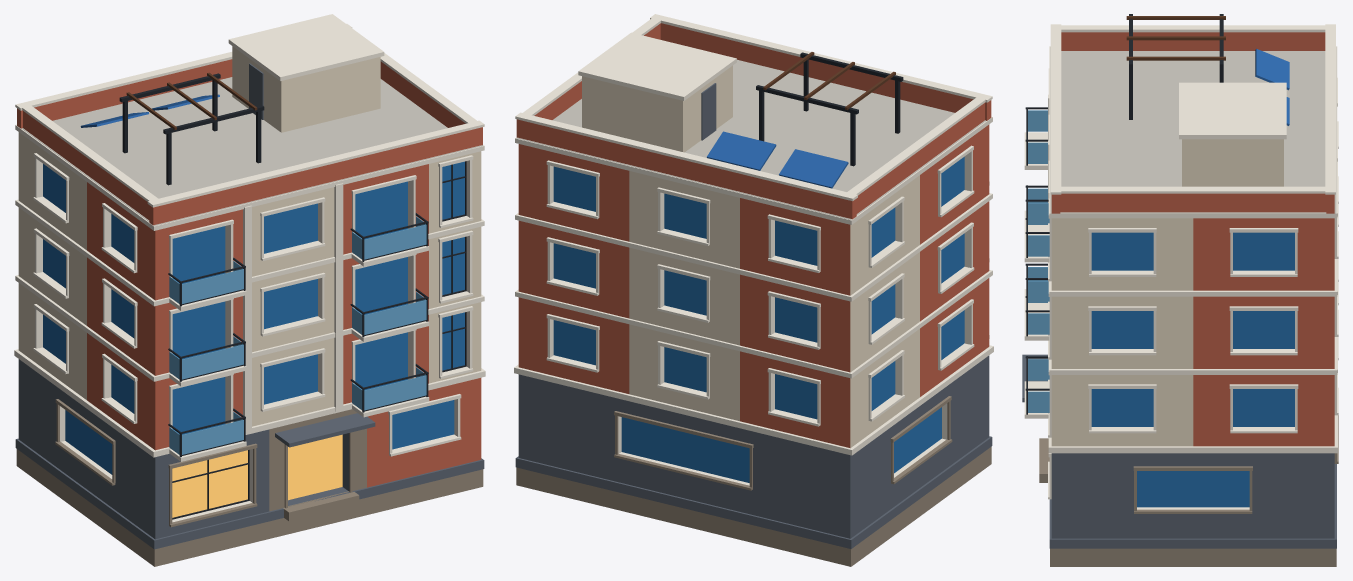
File: 07_midrise_residential-lod1.glb
3 renders of one model, left to right at view 1: azimuth 30°, elevation 25°; view 2: azimuth 150°, elevation 25°; view 3: azimuth 270°, elevation 25°, orthographic. The views are drawn at different scales.
Visible parts, largest first — view 1: BloqueCuatroPlantas_LOD1; view 2: BloqueCuatroPlantas_LOD1; view 3: BloqueCuatroPlantas_LOD1.
Part boxes in pixels (box(x1,y1,x2,y2)): BloqueCuatroPlantas_LOD1: box(14, 14, 485, 566); BloqueCuatroPlantas_LOD1: box(514, 14, 993, 566); BloqueCuatroPlantas_LOD1: box(1022, 14, 1338, 566).
Size of the model in its own units: 14.08 by 16.11 by 11.19.
2 materials, 2 textured.
